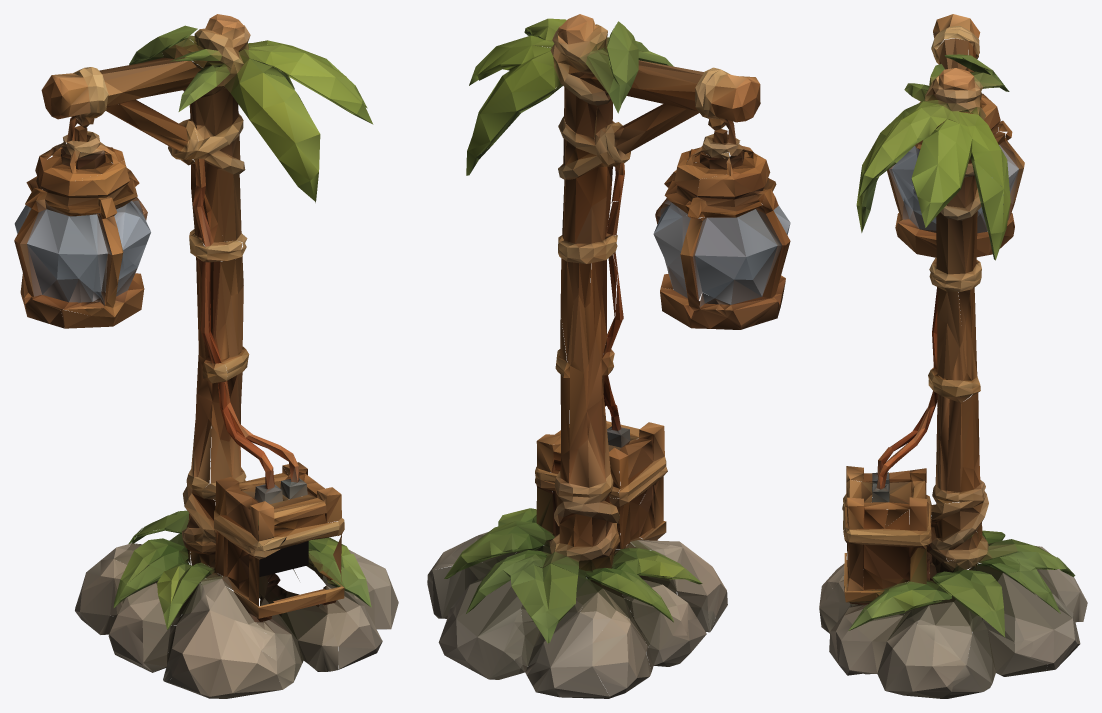
File: building-circuitLamp-open.glb
The picture shows the model from 3 angles, left to right: view 1: azimuth 30°, elevation 25°; view 2: azimuth 150°, elevation 25°; view 3: azimuth 270°, elevation 25°; orthographic projection. The views are drawn at different scales.
Parts seen in each view (by area): view 1: 0_circuitLamp; view 2: 0_circuitLamp; view 3: 0_circuitLamp.
Boxes of the visible parts, x1,y1,x2,y2 form: 0_circuitLamp: (14,14,398,698); 0_circuitLamp: (427,14,790,698); 0_circuitLamp: (819,14,1087,698).
Size of the model in its own units: 1.55 by 2.5 by 1.08.
